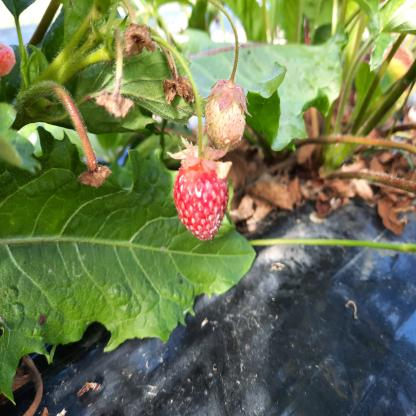ripe: (176, 162, 228, 238)
unripe: (204, 78, 248, 152)
